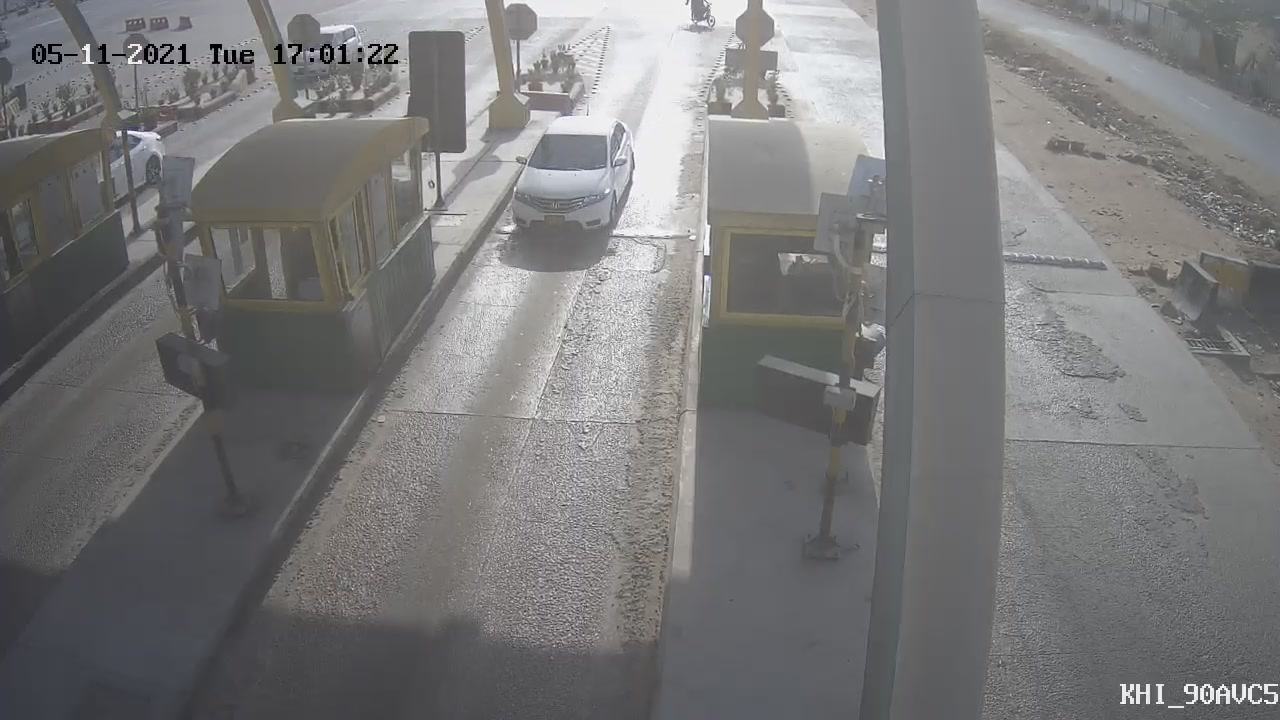F1: (482, 98, 657, 257)
